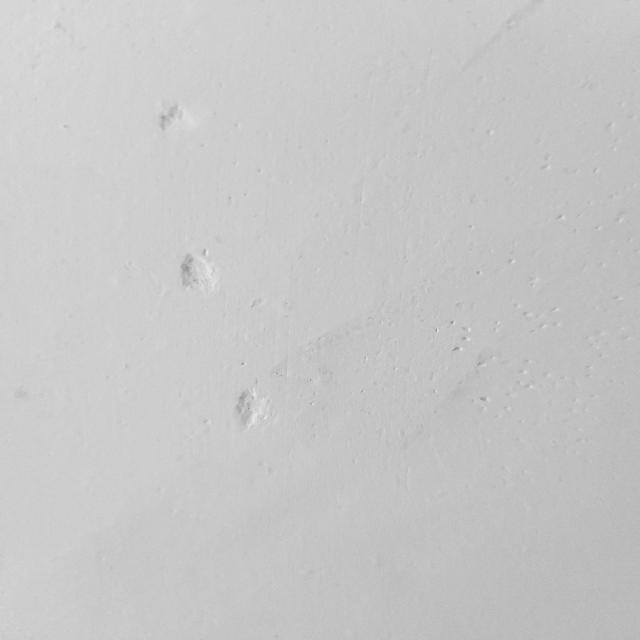rough and patchy surface: (370, 93, 628, 443), (120, 84, 295, 436), (421, 5, 561, 81)
